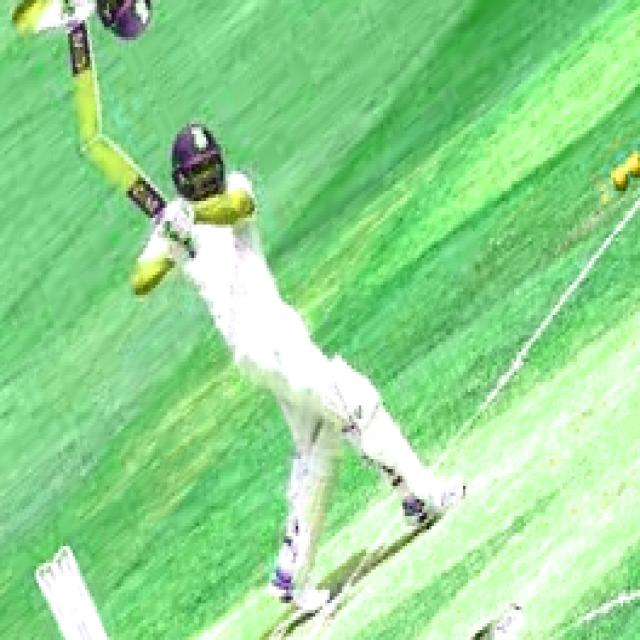toe: (77, 137, 113, 177)
